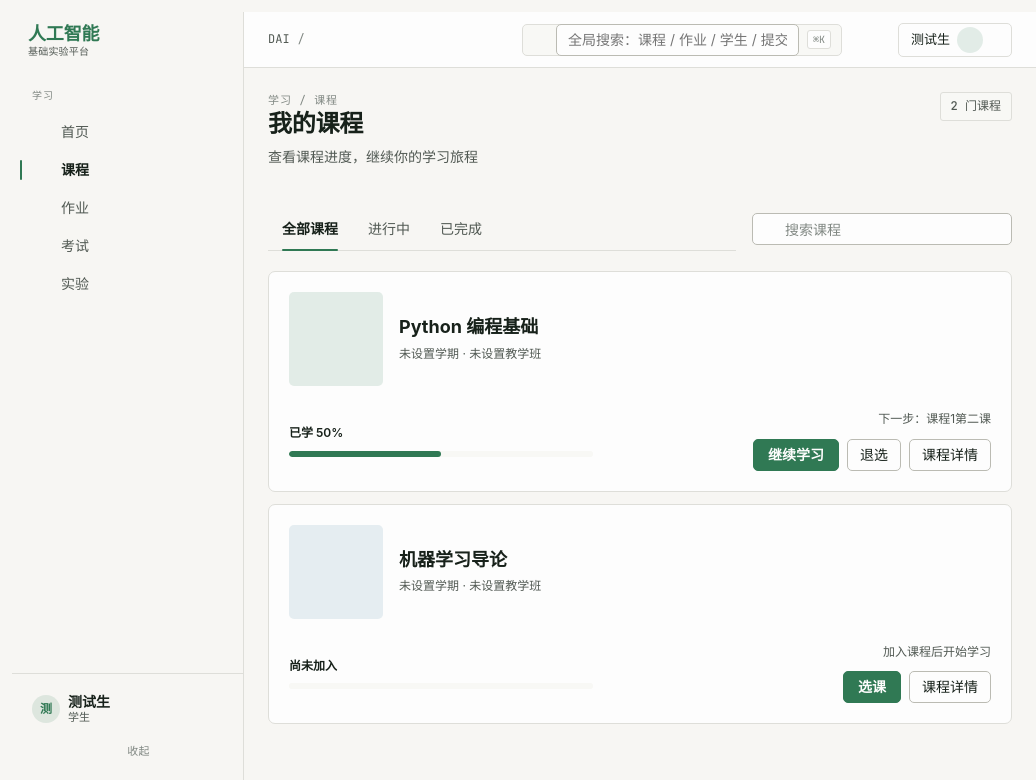
Test: 我的课程 CourseListView（参考图 02） › “进行中”标签页只显示有真实进度的课程
Click the tab with class "tab-btn" showing "进行中": (389, 229) [354,208,424,250]
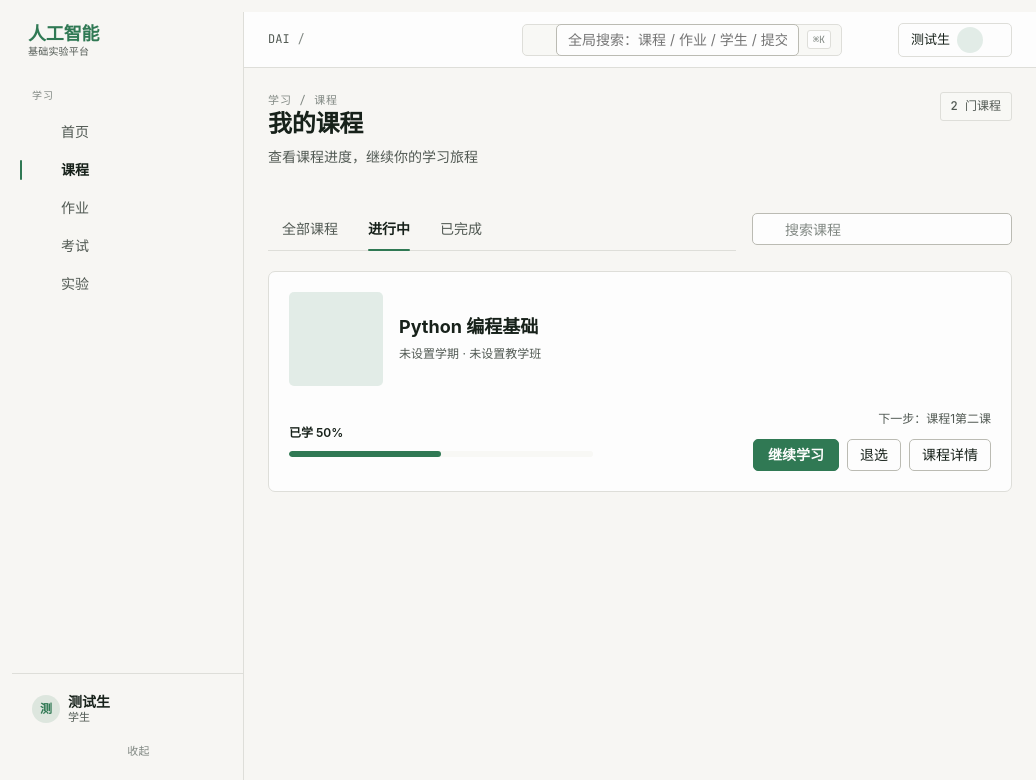
Expected: the text "Python 编程基础" is shown, [399,315,541,339]
Result: the number of elements with class "course-row" is 1 at [268,271,1012,492]
